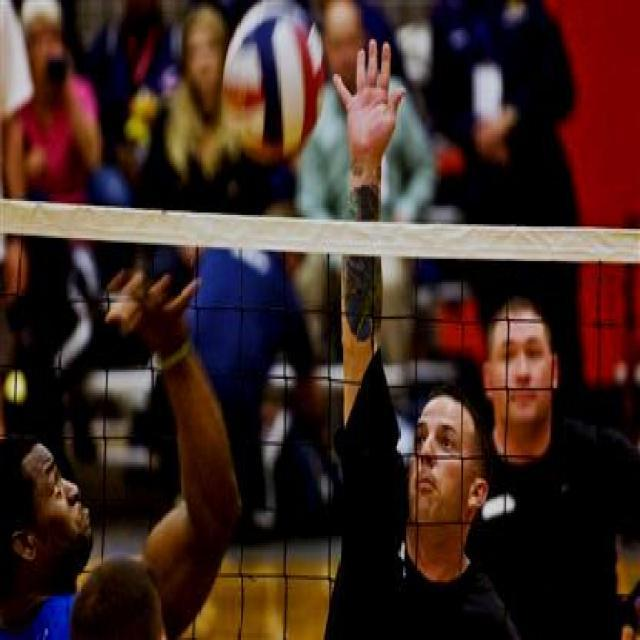volleyball: (223, 0, 325, 161)
